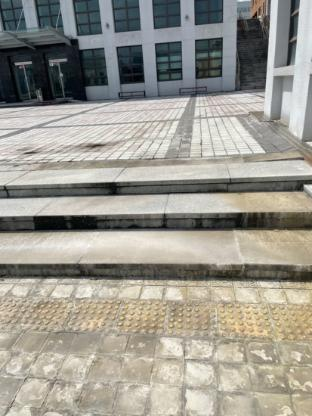stair: (0, 162, 312, 294)
